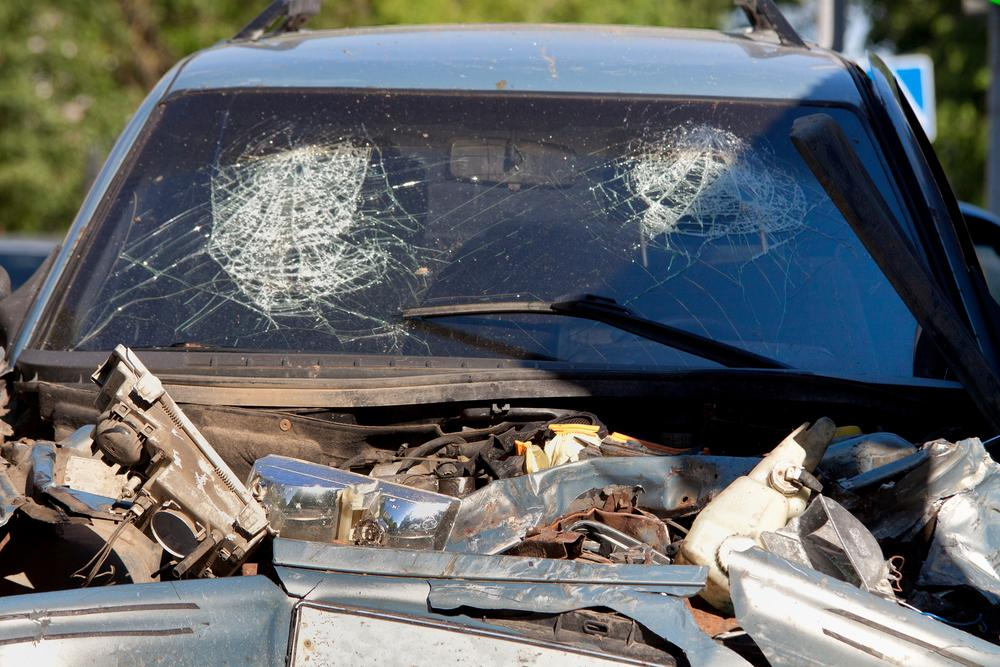crack: (426, 581, 695, 667), (630, 556, 772, 667), (263, 568, 325, 598)
glass shatter: (35, 91, 970, 383)
